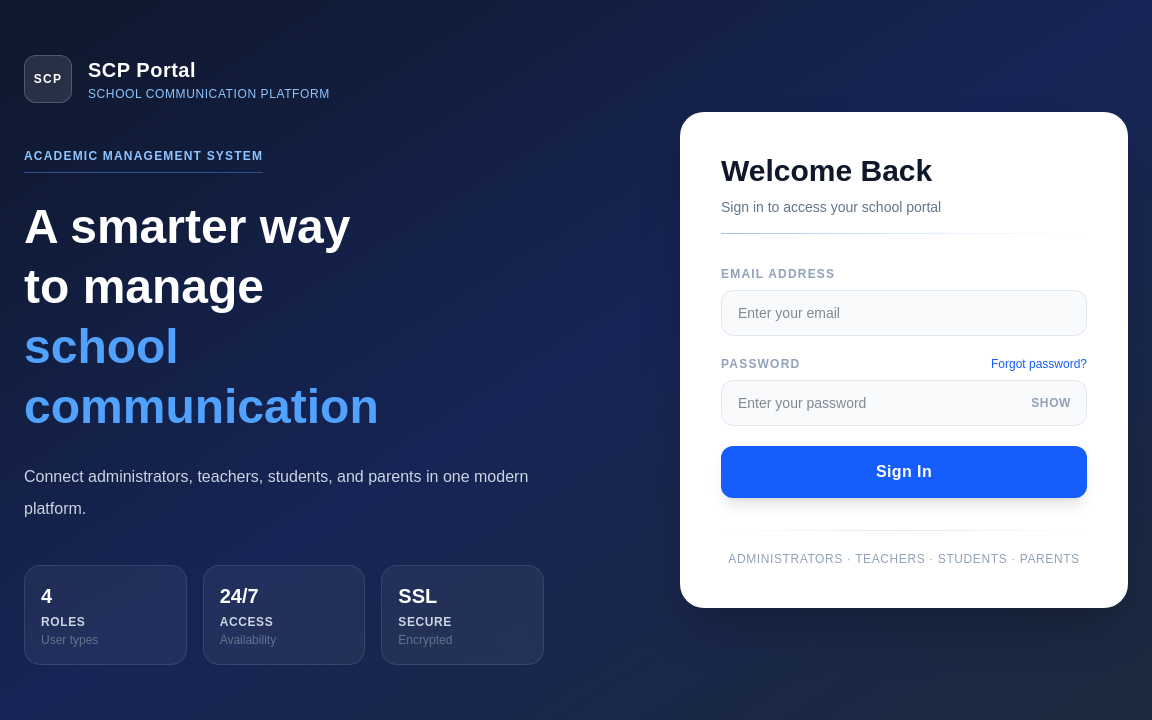
Test: LoginPage — forgot password modal › opens forgot password modal when "Forgot password?" is clicked
Click the button "Forgot password?" at point(1039, 364), box x1=991 y1=356 x2=1087 y2=372
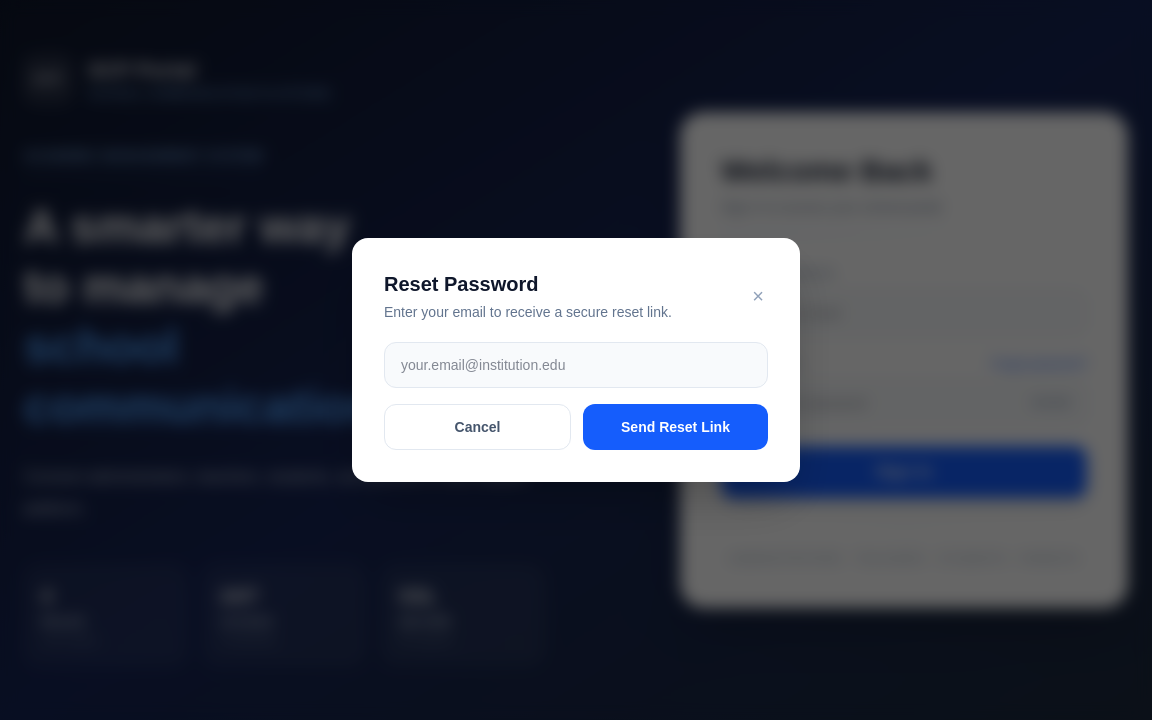
Expected: the heading "Reset Password" is shown, x1=384 y1=273 x2=538 y2=295
